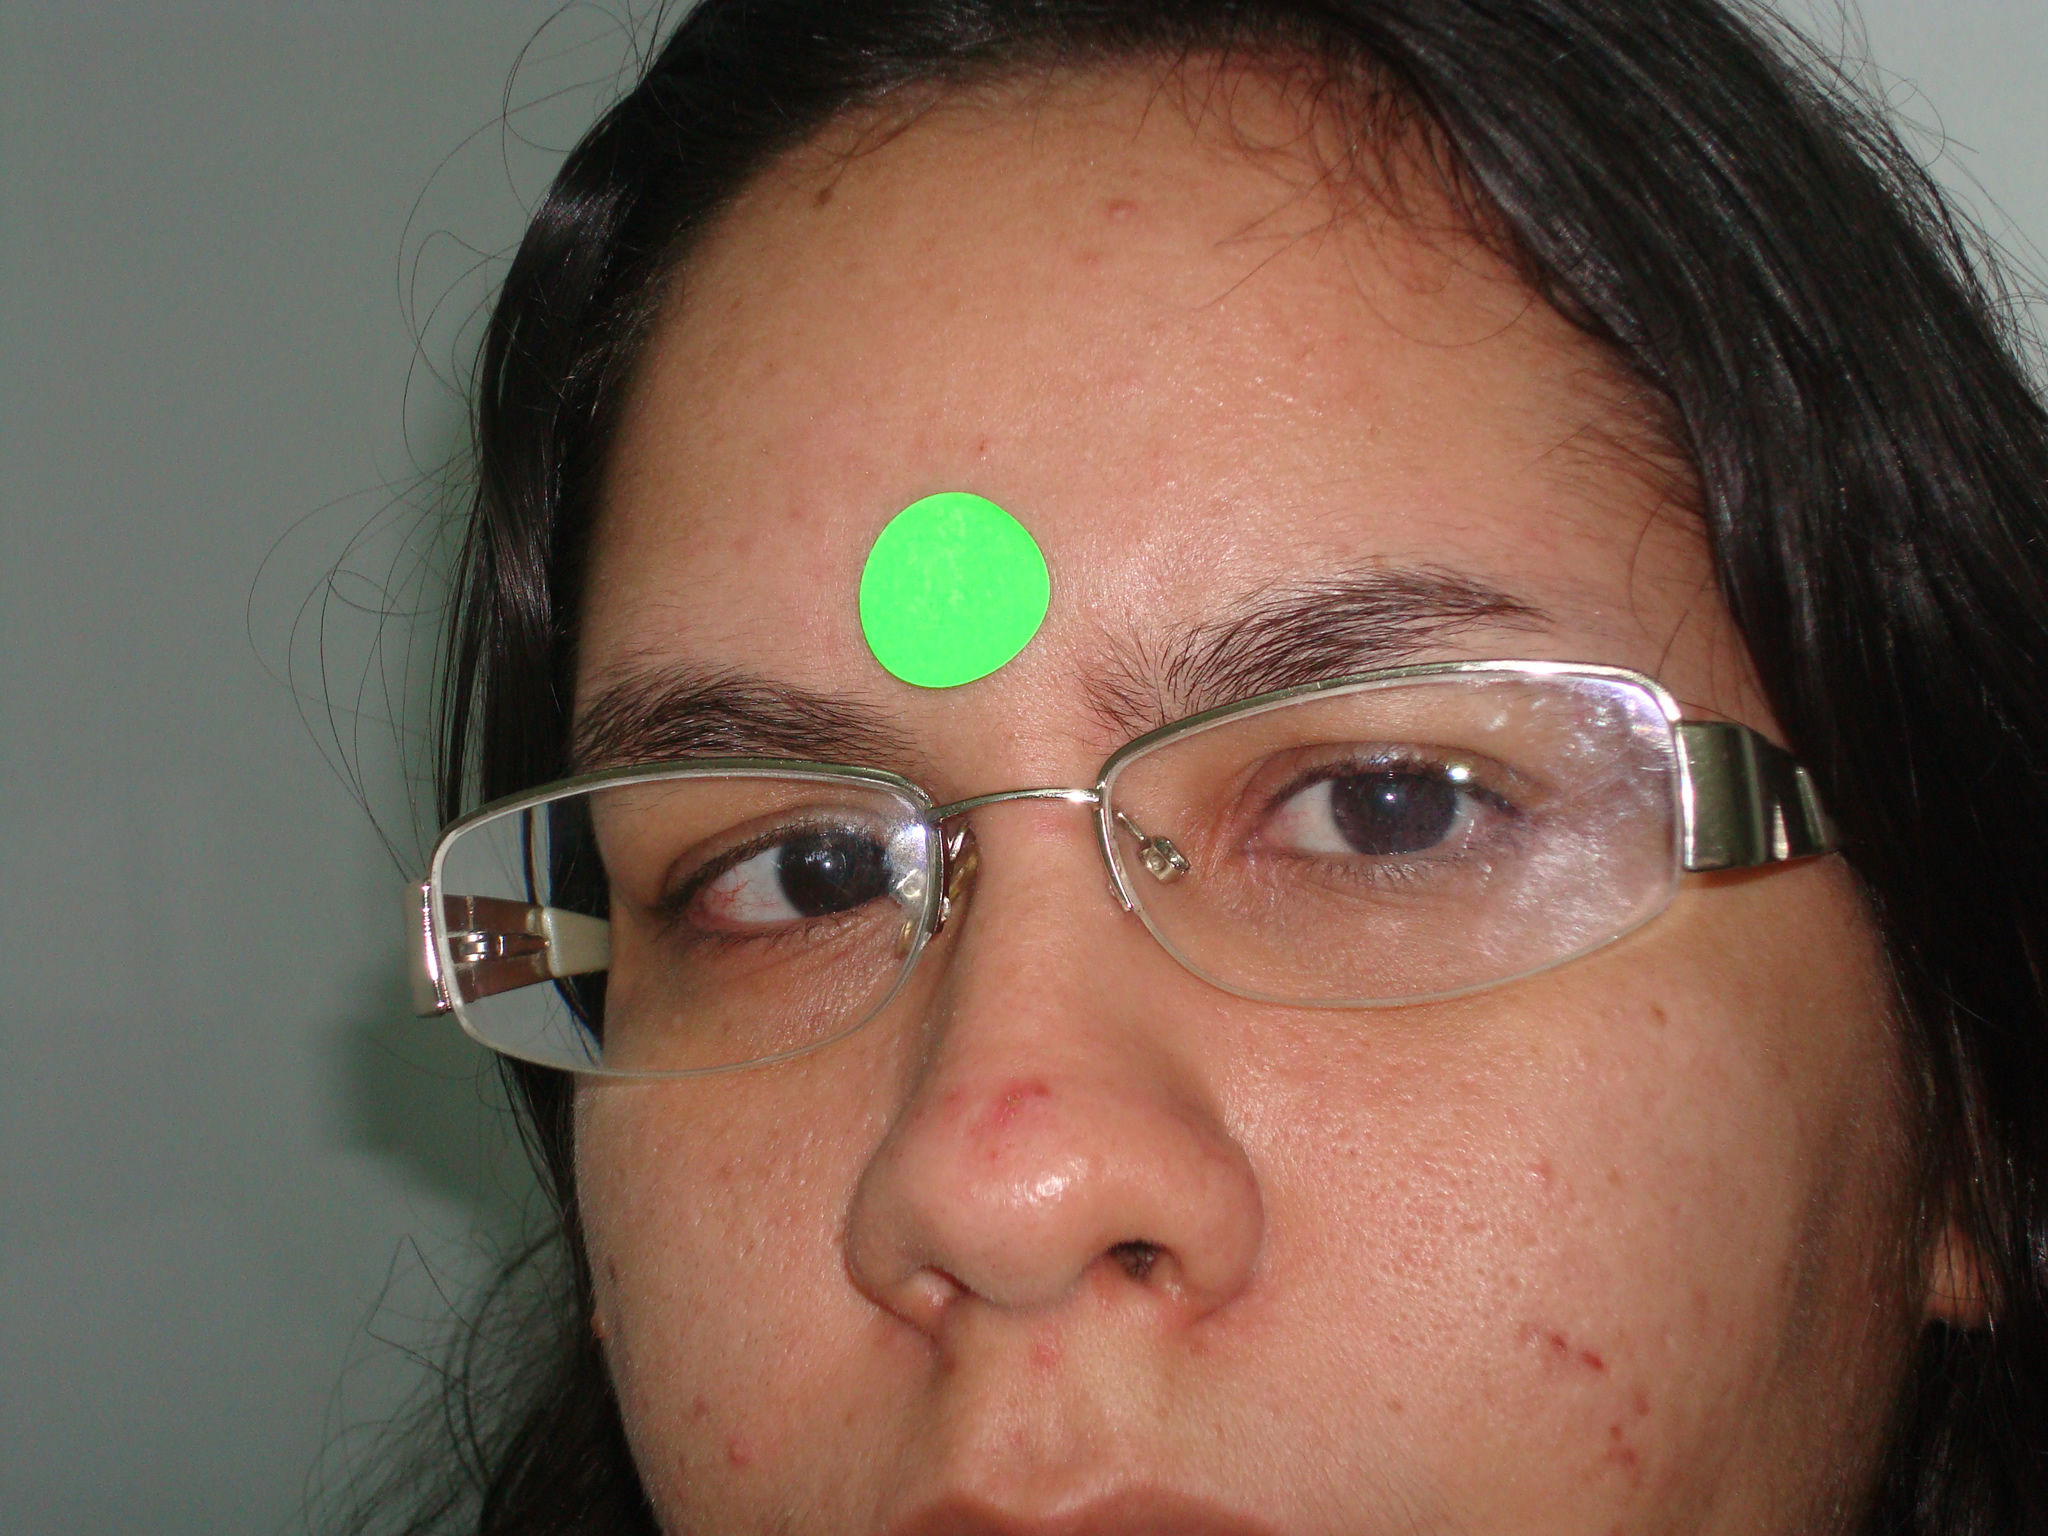flash: (1379, 787, 1400, 808), (821, 855, 835, 873)
limbo: (1330, 749, 1448, 855), (784, 815, 890, 918)
